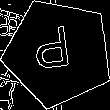P_S: (37, 26, 80, 80)
